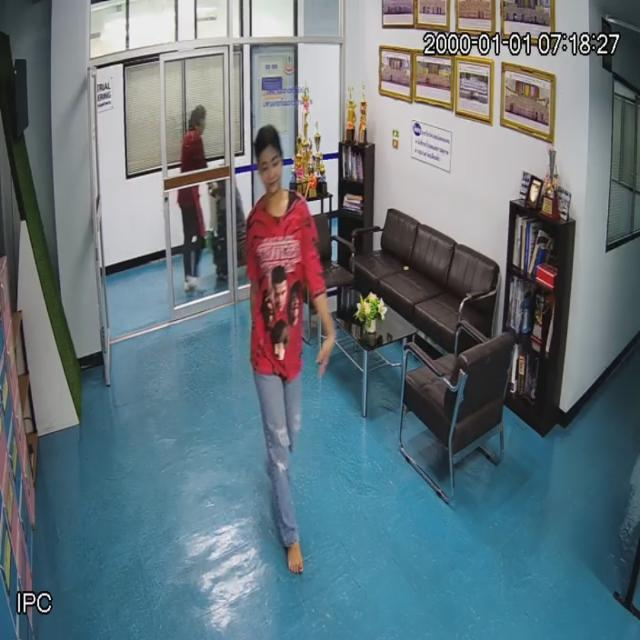normal: (245, 128, 348, 580), (177, 103, 219, 290)
